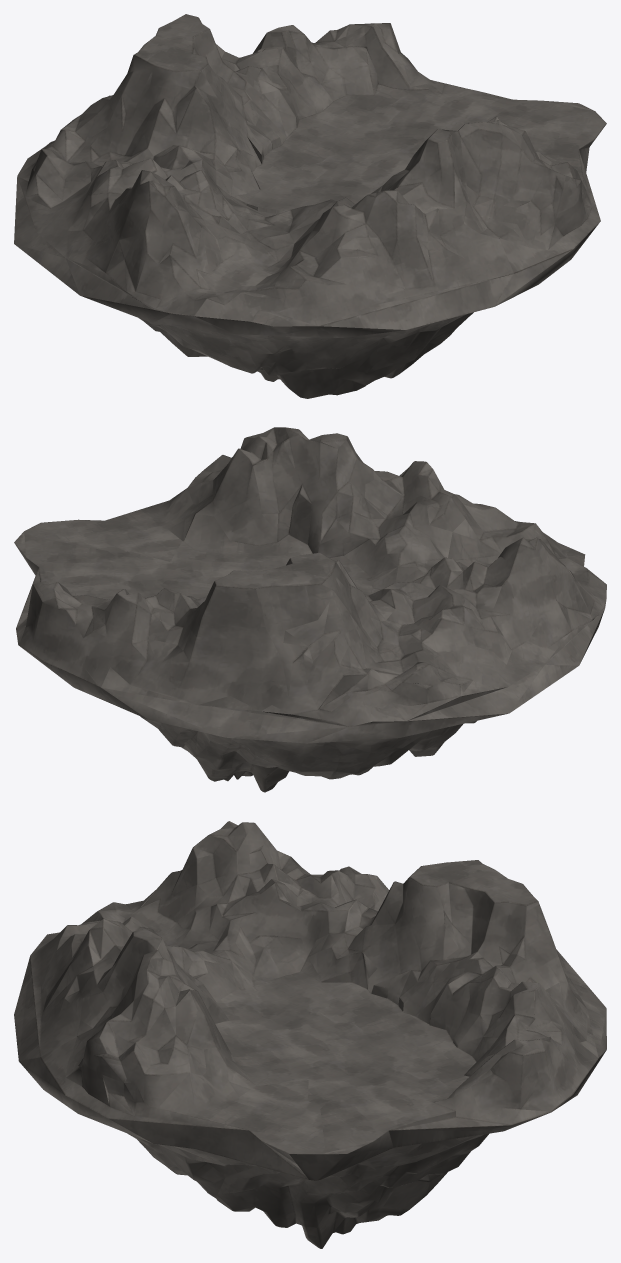
Rendered from Island Coliseo.fbx.
3 renders of one model, top to bottom at view 1: azimuth 30°, elevation 25°; view 2: azimuth 150°, elevation 25°; view 3: azimuth 270°, elevation 25°, orthographic. The views are drawn at different scales.
Parts seen in each view (by area): view 1: Island Coliseo_Baked; view 2: Island Coliseo_Baked; view 3: Island Coliseo_Baked.
Part boxes in pixels (x1,y1,x2,y2): Island Coliseo_Baked: (14,14,606,398); Island Coliseo_Baked: (14,427,606,792); Island Coliseo_Baked: (14,821,606,1248).
Size of the model in its own units: 12272 by 6354 by 11082.
Materials: 1 (1 with a texture image).
